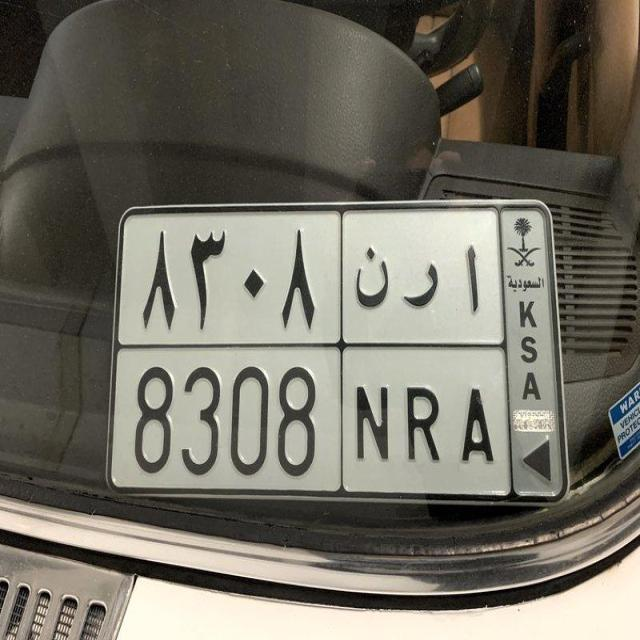license_plate: (88, 179, 531, 492)
